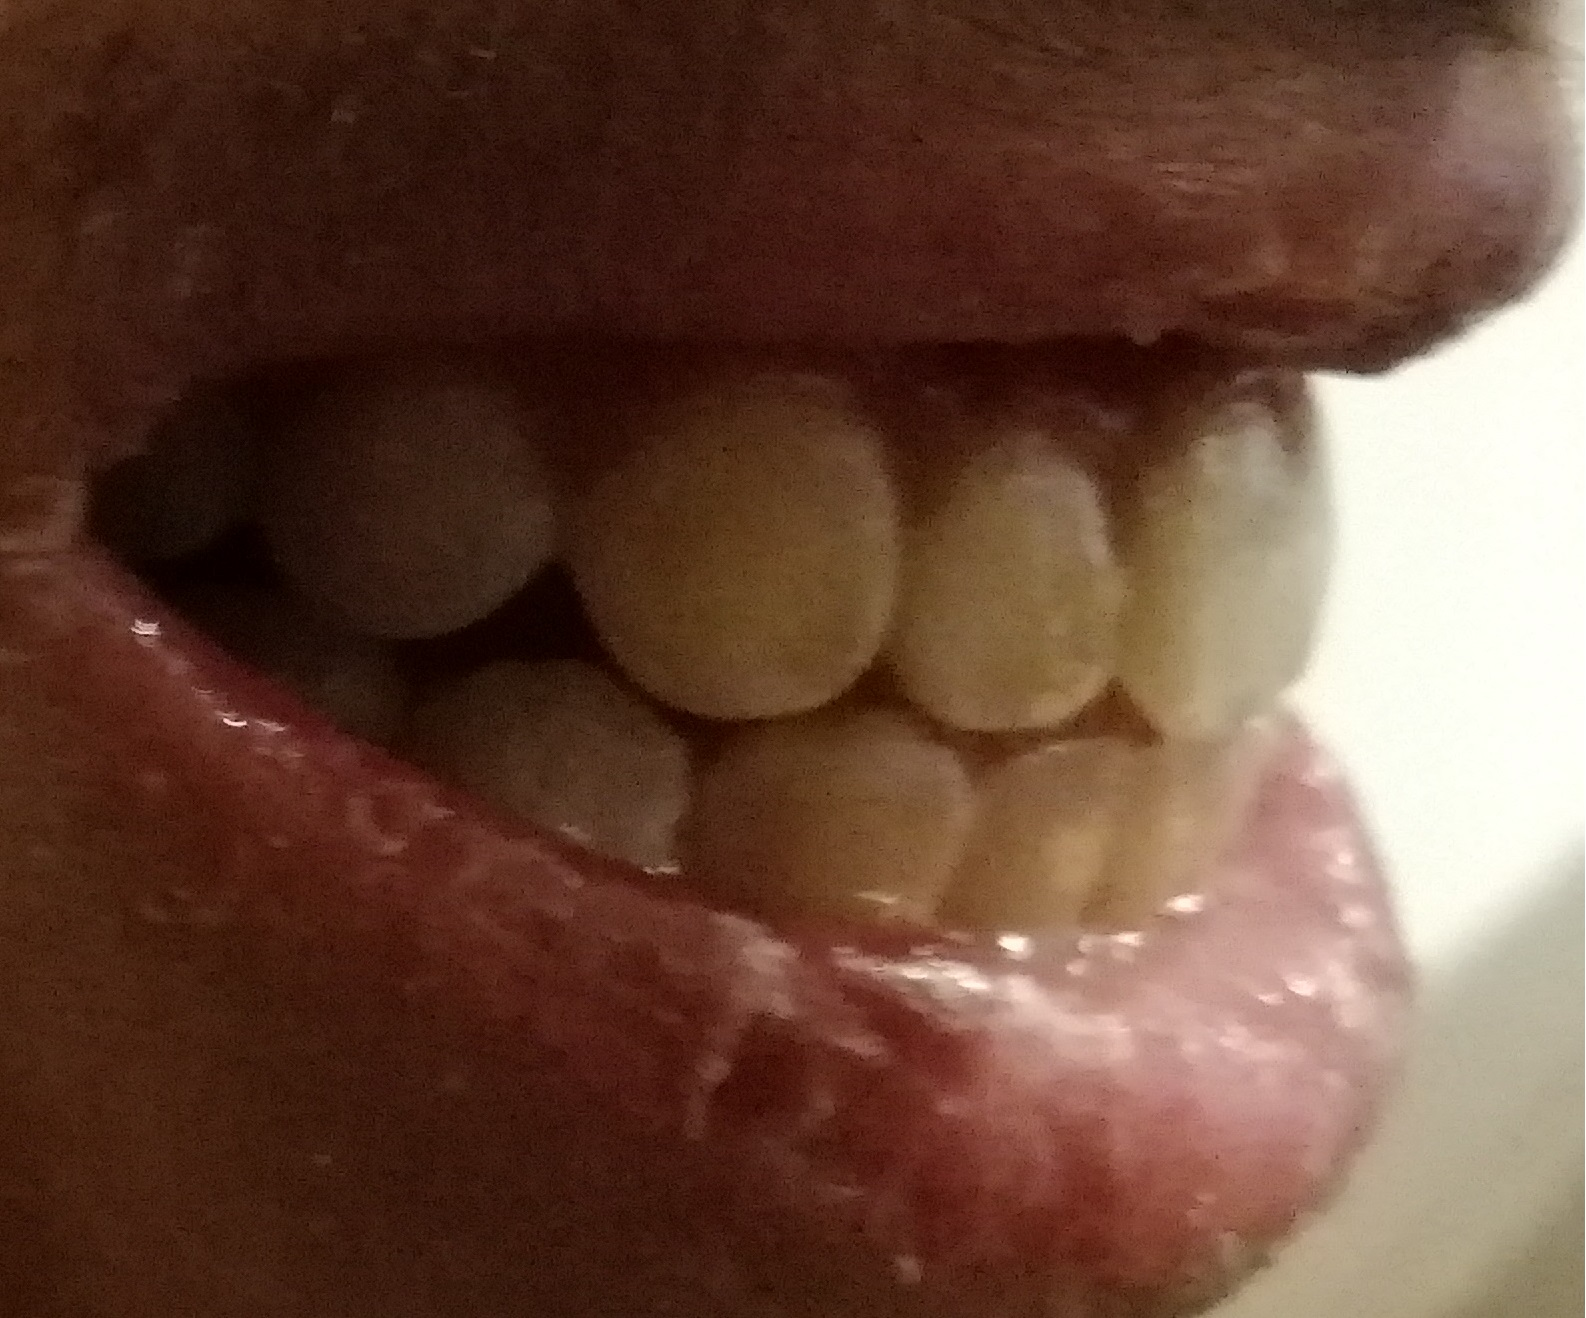boca: (134, 377, 1373, 941)
